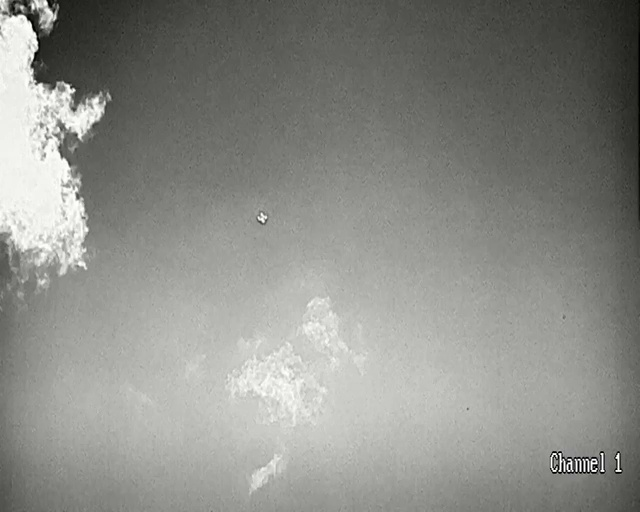uav: (256, 212, 267, 223)
